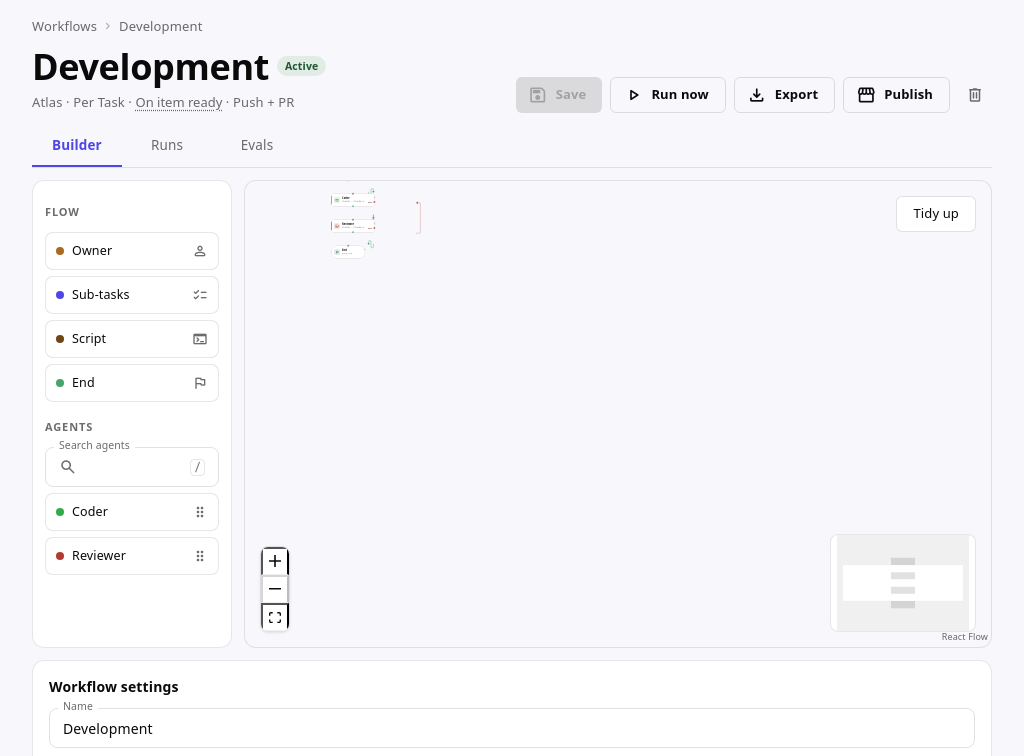
Scenario: WorkflowBuilder › selects the node that was clicked and offers it to the inspector
The image size is (1024, 756).
Expected: the element with test id "workflow-canvas" is shown, [244, 180, 992, 648]
Expected: the heading "Workflow settings" is shown, [49, 677, 179, 696]
Click the element with test id "rf__node-coder" at (353, 200), box [331, 193, 375, 206]
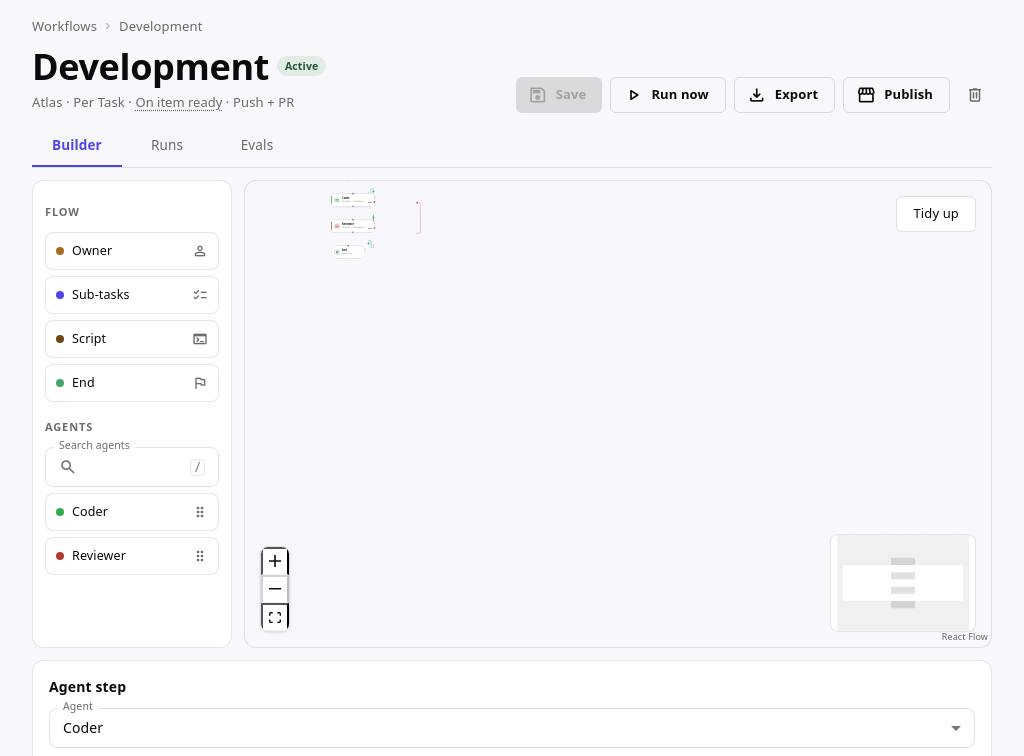
Expected: the heading "Workflow settings" is gone
